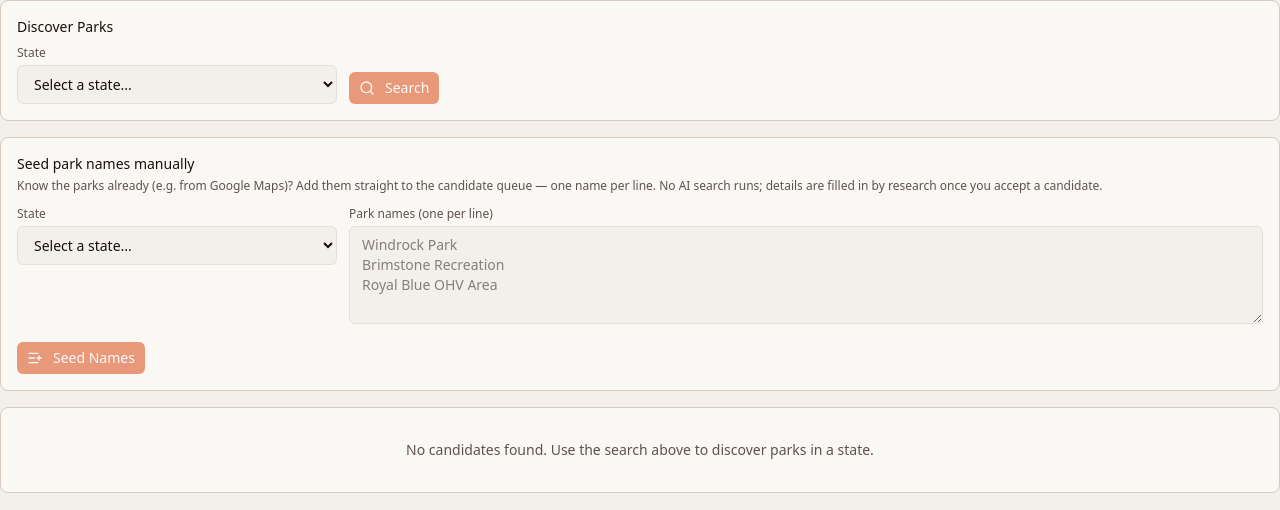
Test: ParkDiscoveryTable › Seed button is disabled until a state and a name are provided
Expected: the button "Seed Names" is disabled, 17,342 -> 145,374
Note: Second combobox is the seed panel's state select.
Select "Tennessee (TN)" in the dropdown below "Park names (one per line)" at (177, 246), box 17,226 -> 337,265
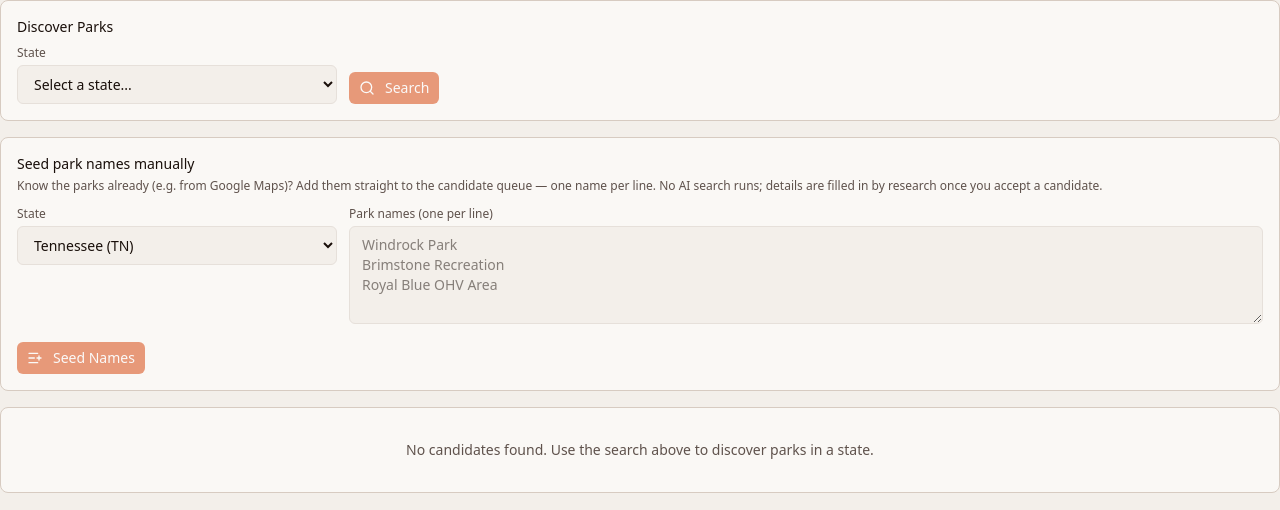
Expected: the button "Seed Names" is disabled, 17,342 -> 145,374
Type "Windrock Park" into the text box with placeholder "Windrock Park Brimstone Recreation Royal Blue OHV Area" at (806, 275), box 349,226 -> 1263,324
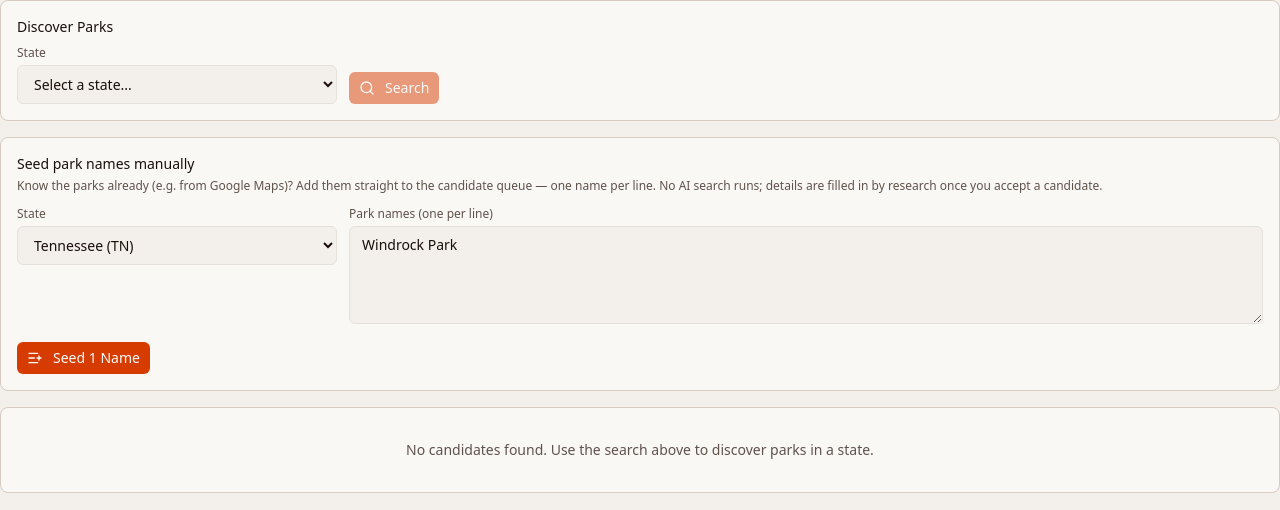
Result: the button "Seed 1 Name" is enabled at 17,342 -> 150,374
